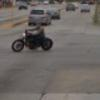motorcycles: (13, 30, 54, 54)
